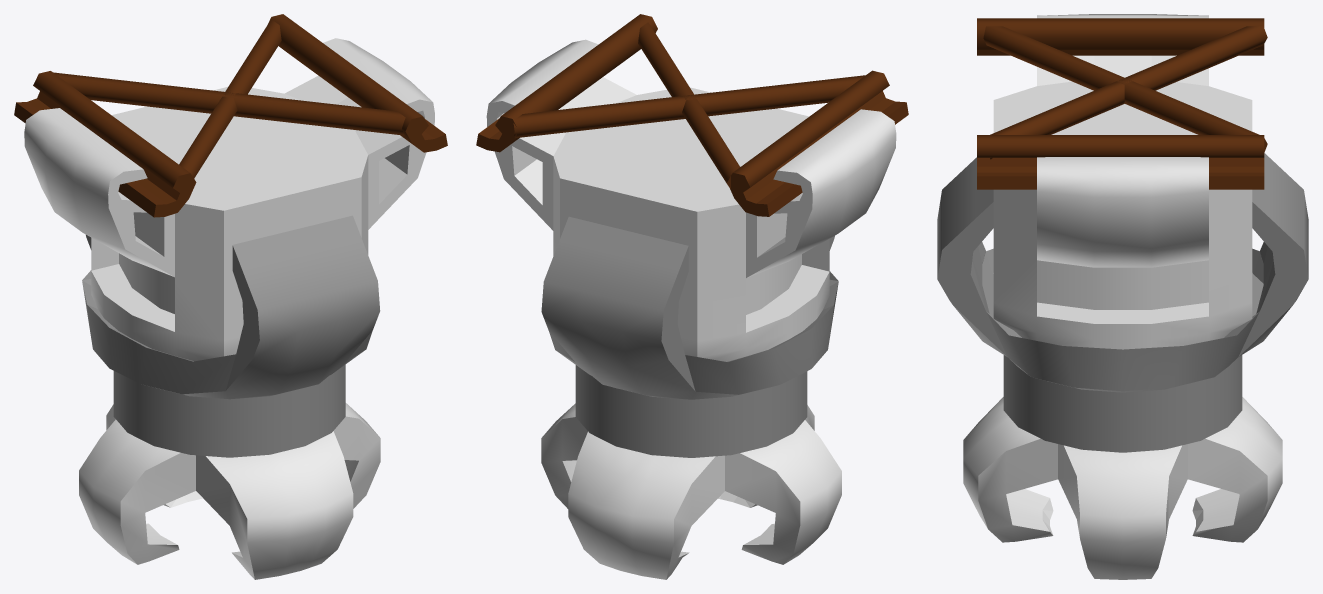
File: Manof.fbx
3 views of the same model, side by side, from view 1: azimuth 30°, elevation 25°; view 2: azimuth 150°, elevation 25°; view 3: azimuth 270°, elevation 25° (orthographic). The views are drawn at different scales.
Visible parts, largest first — view 1: Box008, Cylinder012, Manof, Cylinder009, Cylinder008, Cylinder011, Cylinder010; view 2: Box008, Cylinder012, Manof, Cylinder010, Cylinder008, Cylinder011, Cylinder009; view 3: Box008, Cylinder012, Manof, Cylinder011, Cylinder008, Cylinder010, Cylinder009.
Boxes of the visible parts, x1,y1,x2,y2 form: Box008: (24, 38, 434, 361); Cylinder012: (82, 215, 380, 457); Manof: (79, 403, 380, 579); Cylinder009: (53, 72, 405, 135); Cylinder008: (14, 71, 196, 217); Cylinder011: (268, 14, 447, 152); Cylinder010: (179, 19, 281, 178); Box008: (486, 39, 896, 361); Cylinder012: (541, 216, 838, 457); Manof: (541, 403, 841, 579); Cylinder010: (513, 75, 865, 137); Cylinder008: (730, 70, 908, 216); Cylinder011: (476, 14, 657, 152); Cylinder009: (638, 22, 739, 189); Box008: (993, 14, 1252, 349); Cylinder012: (937, 153, 1308, 452); Manof: (963, 397, 1282, 579); Cylinder011: (977, 135, 1264, 189); Cylinder008: (977, 18, 1264, 55); Cylinder010: (983, 26, 1267, 152); Cylinder009: (990, 26, 1267, 159).
Bounding box in the file's own units: 50.76 × 61.79 × 46.56.
